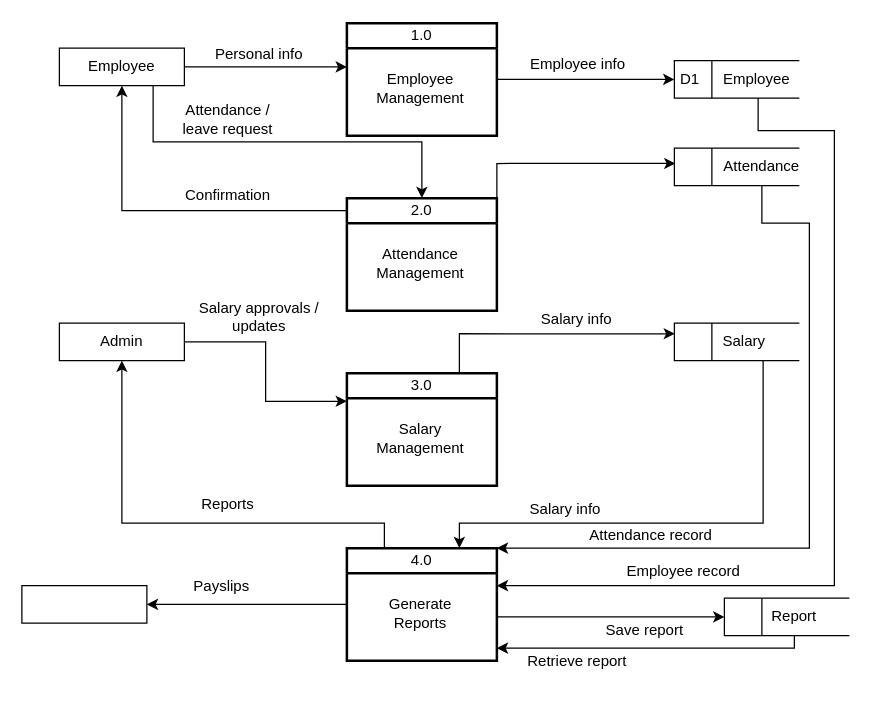
This 871x701 diagram has some shape labels left out. Each missing label, with the box of its shape:
D2: (673, 147, 799, 186)
D3: (673, 322, 799, 361)
D4: (723, 597, 849, 636)
Payroll Dept: (21, 584, 147, 623)
